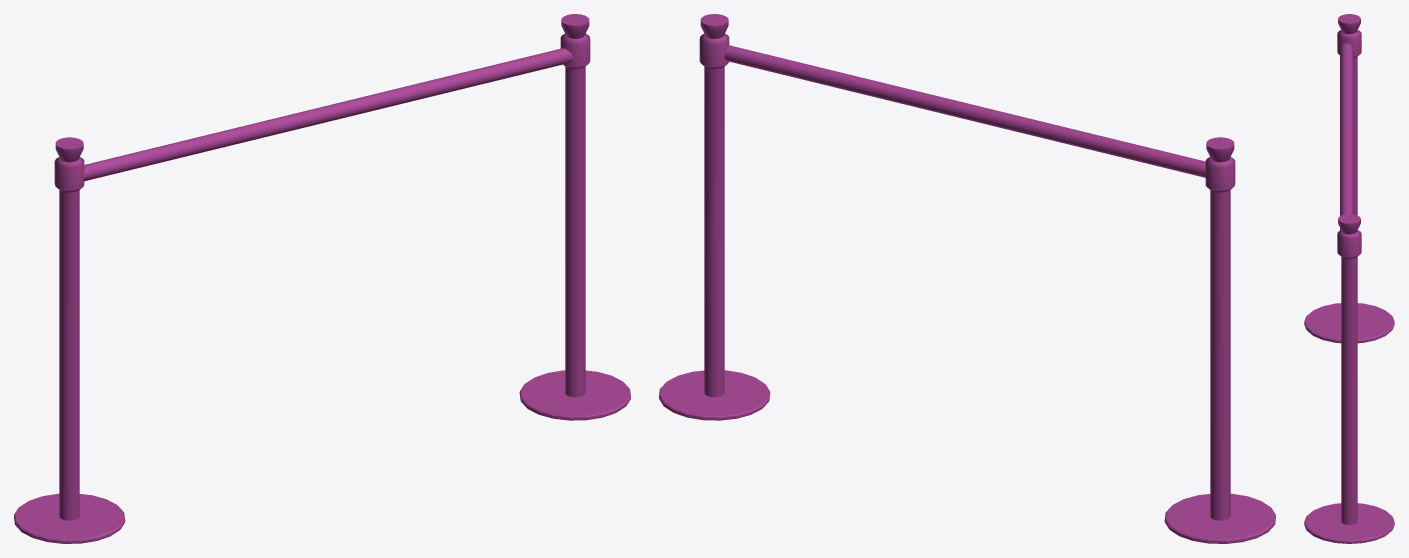
Rendered from rail_guard_Sec.fbx.
3 views of the same model, side by side, from view 1: azimuth 30°, elevation 25°; view 2: azimuth 150°, elevation 25°; view 3: azimuth 270°, elevation 25° (orthographic). The views are drawn at different scales.
Parts seen in each view (by area): view 1: pPipe12; view 2: pPipe12; view 3: pPipe12.
Boxes of the visible parts, x1,y1,x2,y2 form: pPipe12: (14, 14, 630, 543); pPipe12: (659, 14, 1275, 543); pPipe12: (1304, 14, 1394, 543).
Bounding box in the file's own units: 143 × 85.62 × 22.94.
